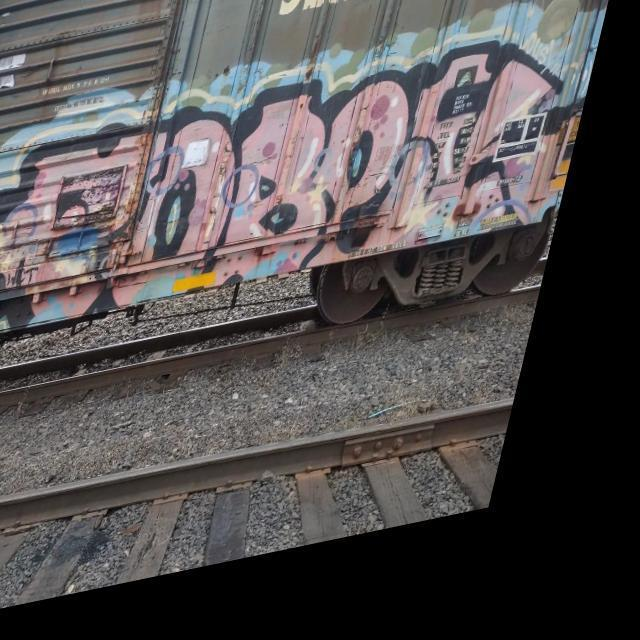-: (0, 25, 615, 357), (270, 0, 483, 38)
